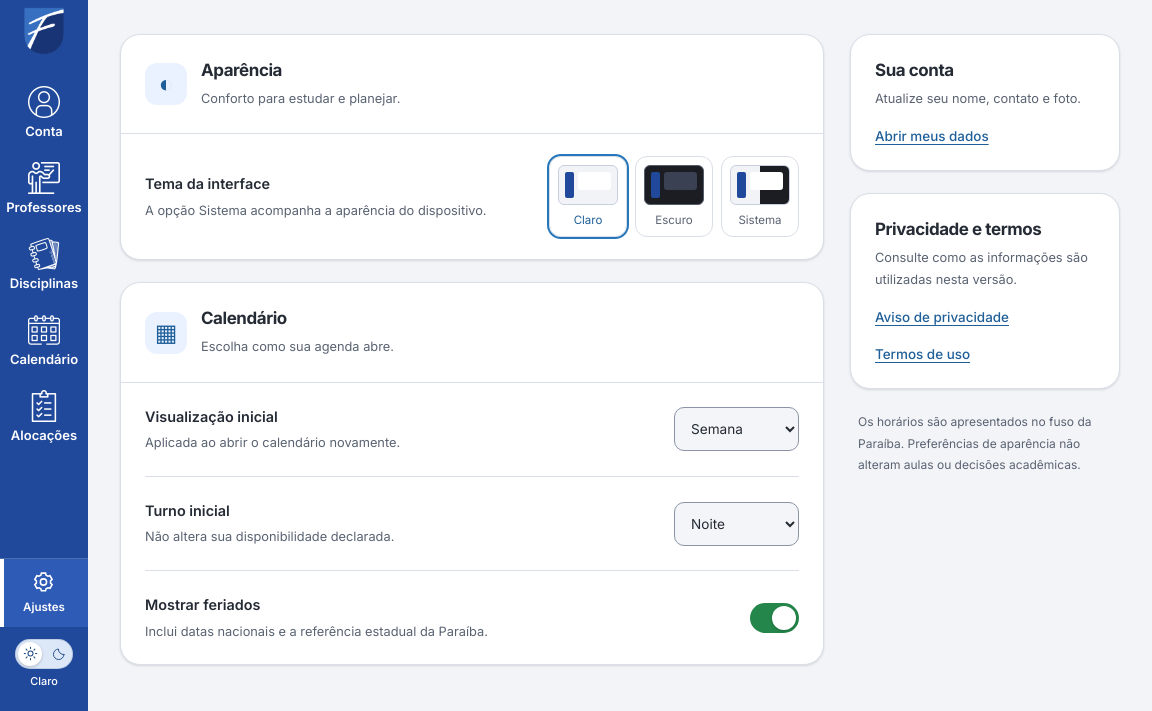
Test case: isola preferencias por conta e nao anuncia salvamento quando o armazenamento falha
The width and height of the screenshot is (1152, 711).
(page scrolled)
Select "Tarde" in the dropdown labelled "Turno inicial Não altera sua disponibilidade declarada." at (736, 524), box 674,502 -> 799,546
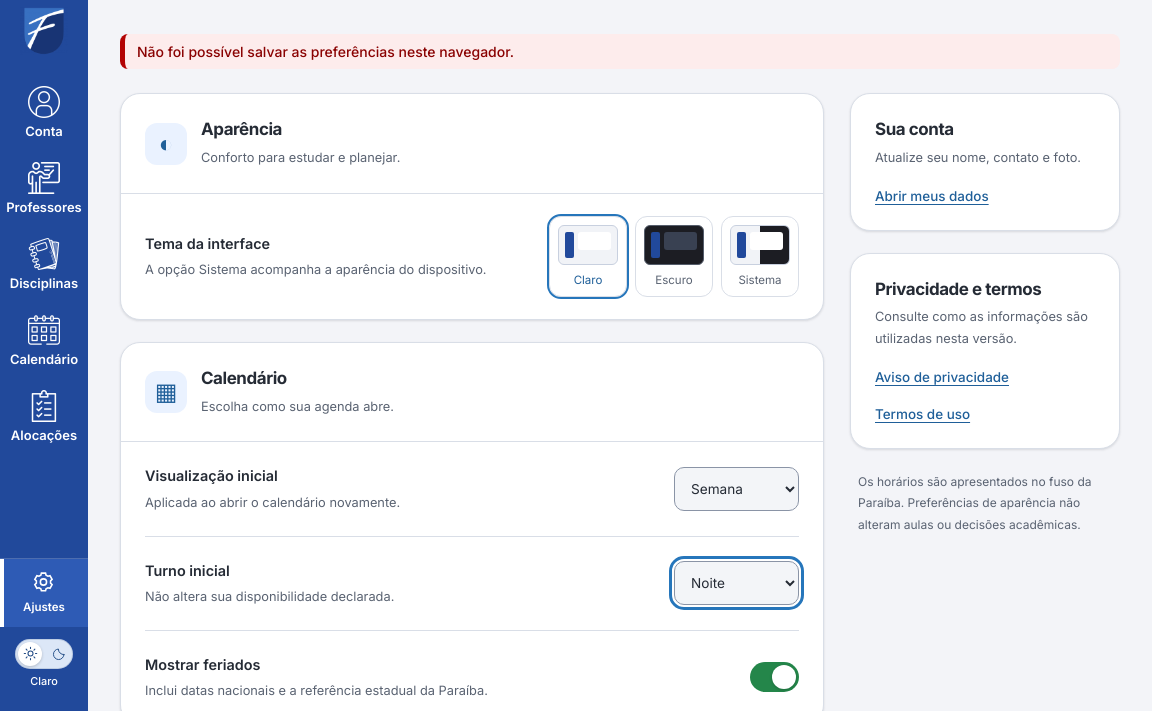
Expected: the message shows "Não foi possível salvar as preferências", 137,43 -> 514,60
